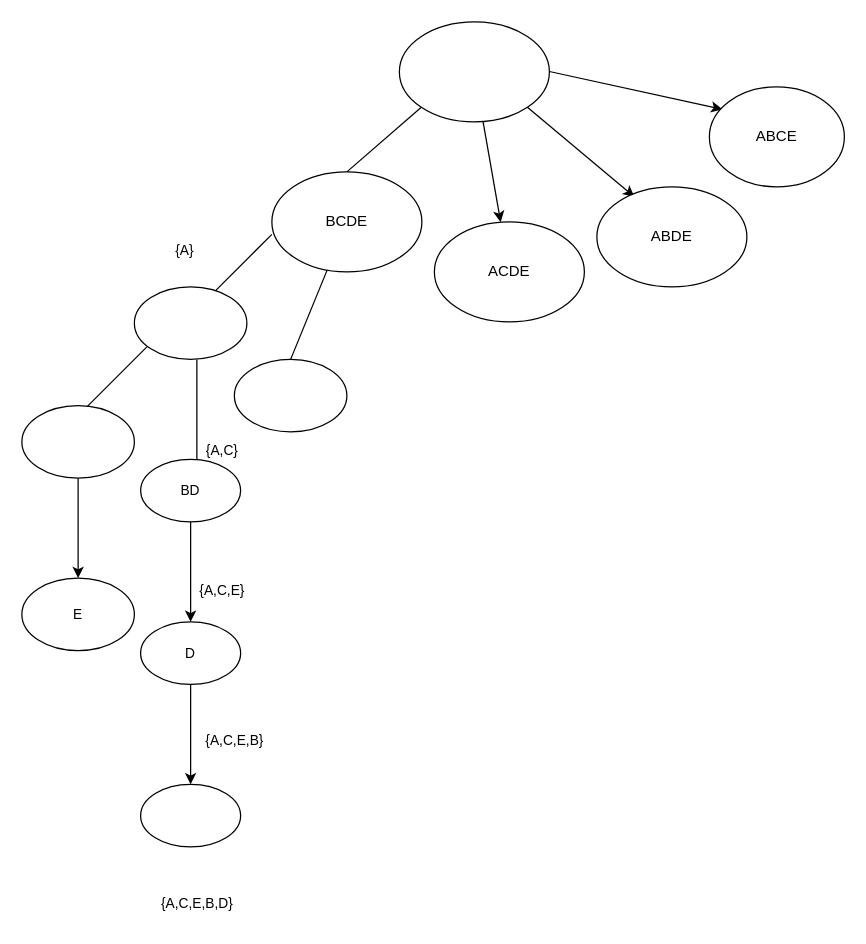
Some shapes in this 866 by 944 pixel diagram are drawn without their labels. The centre of each missing label's shape, as x and y in pixels:
ABCDE: point 473,71
BCE: point 290,395
BDE: point 190,322
DE: point 77,441
